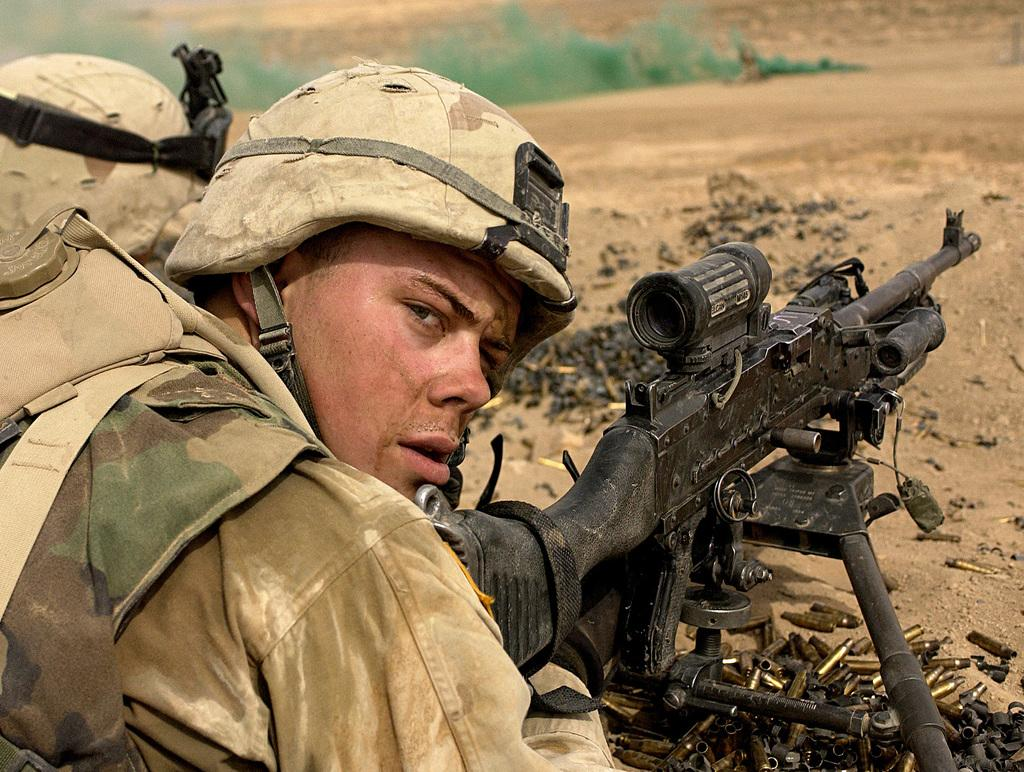Rifle: (530, 216, 994, 639)
